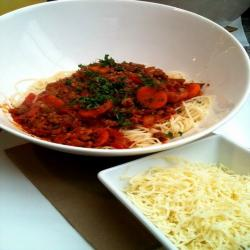bolonese_pasta: (7, 49, 221, 152)
